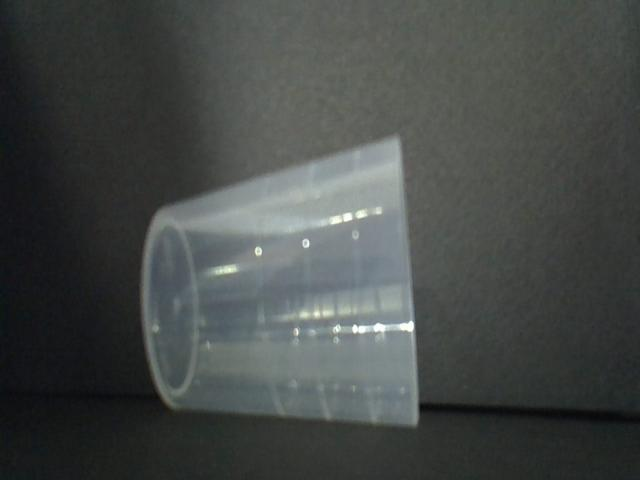cup: (139, 130, 427, 432)
